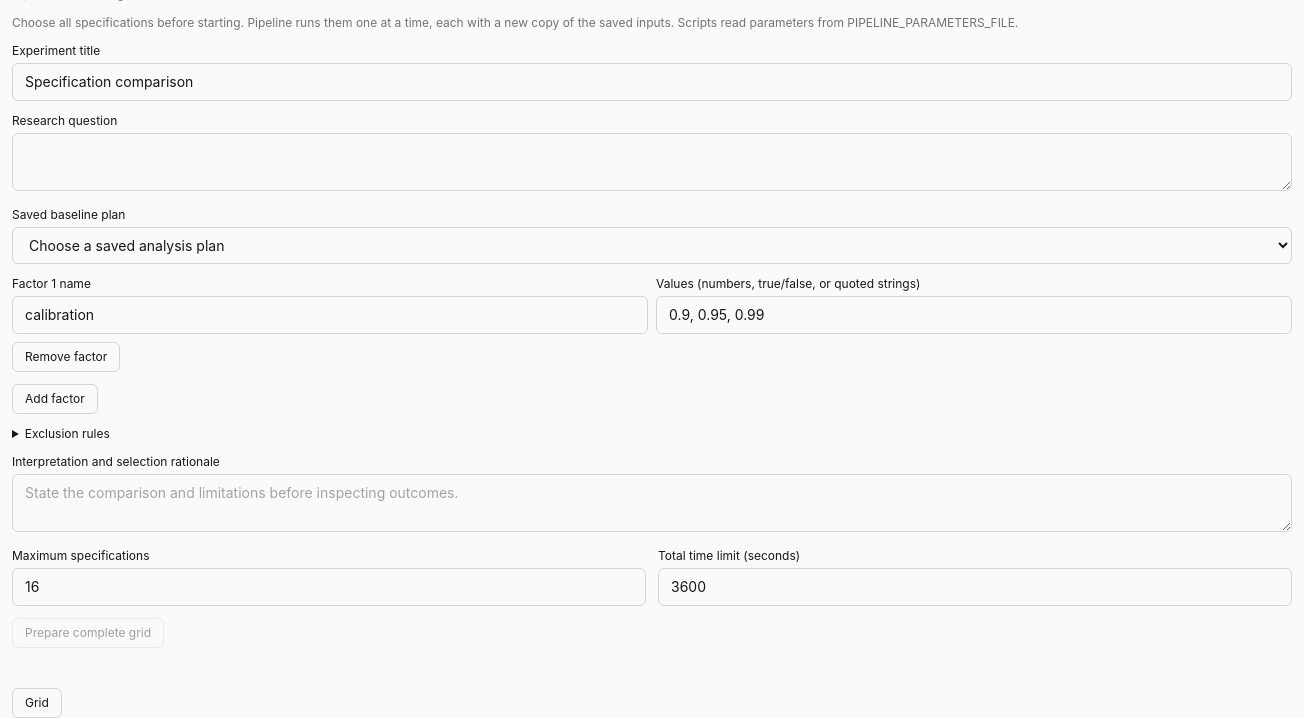
Scenario: offers only what a paused grid can do
(page scrolled)
Click the button "Grid" at (37, 703), box [12,688,62,717]
(page scrolled)
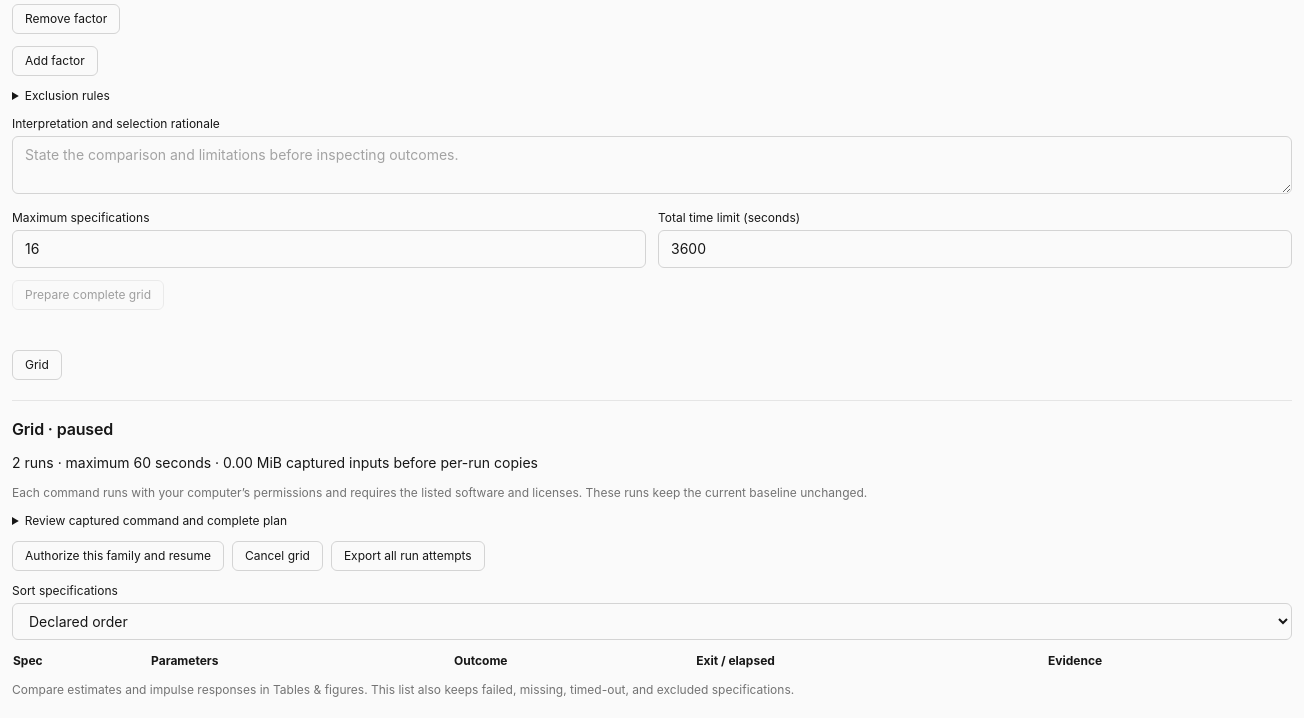
Check: the button "Cancel grid" is shown, box [232,541,323,571]
